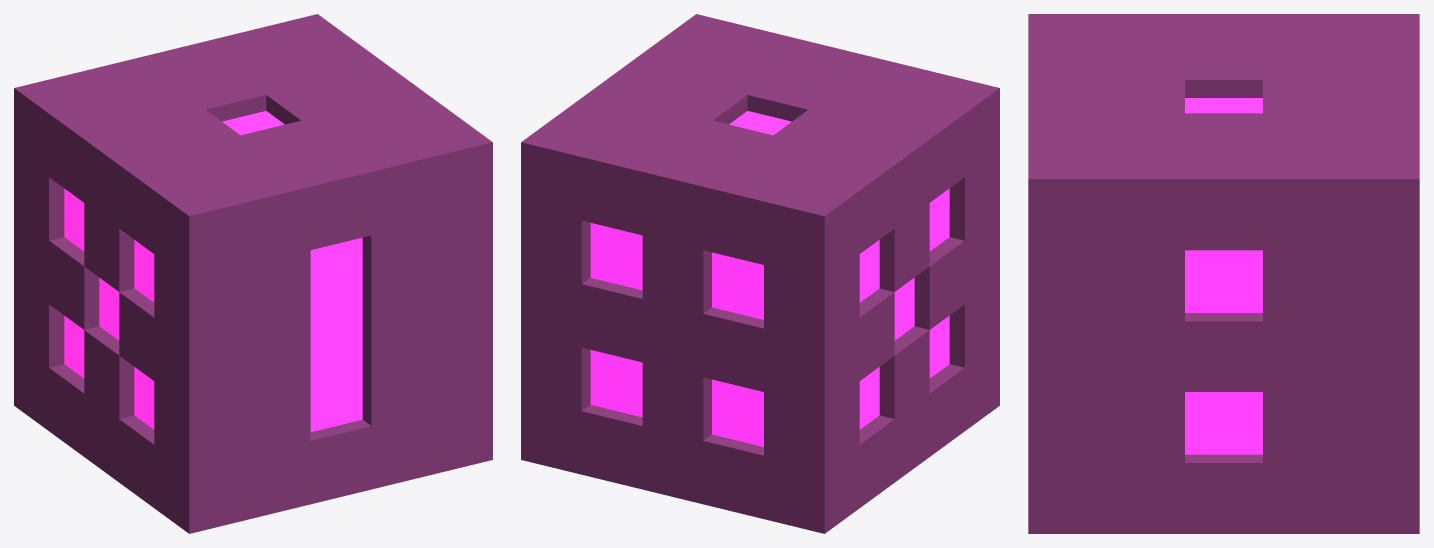
Rendered from CMPM179_Project1_boxSmall2.fbx.
The picture shows the model from 3 angles, left to right: view 1: azimuth 30°, elevation 25°; view 2: azimuth 150°, elevation 25°; view 3: azimuth 270°, elevation 25°; orthographic projection. The views are drawn at different scales.
Visible parts, largest first — view 1: box_small2; view 2: box_small2; view 3: box_small2.
Part boxes in pixels (x1=…): box_small2: x1=14, y1=14, x2=492, y2=533; box_small2: x1=521, y1=14, x2=999, y2=533; box_small2: x1=1028, y1=14, x2=1419, y2=533.
Bounding box in the file's own units: 100 × 100 × 100.
